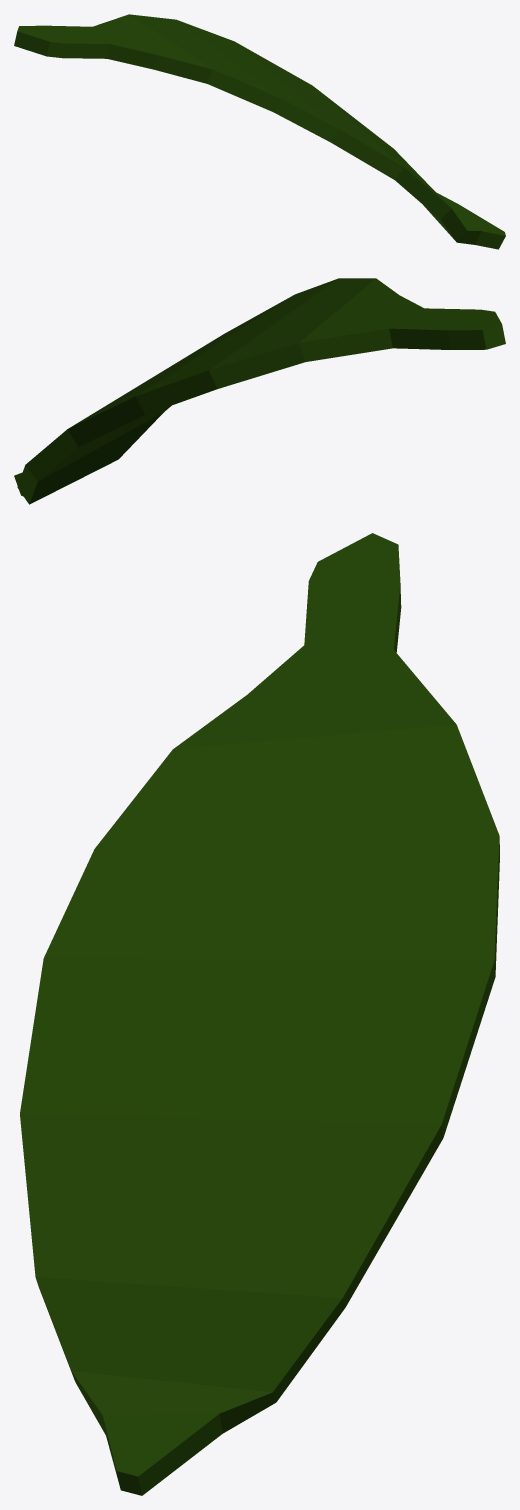
Rendered from HojaMed.fbx.
3 views of the same model, one above another, from view 1: azimuth 30°, elevation 25°; view 2: azimuth 150°, elevation 25°; view 3: azimuth 270°, elevation 25° (orthographic). The views are drawn at different scales.
Visible parts, largest first — view 1: Plane; view 2: Plane; view 3: Plane.
Part boxes in pixels (box(x1,y1,x2,y2)): Plane: box(14, 14, 505, 249); Plane: box(14, 278, 505, 504); Plane: box(20, 533, 499, 1495).
Size of the model in its own units: 193 by 118 by 93.01.
